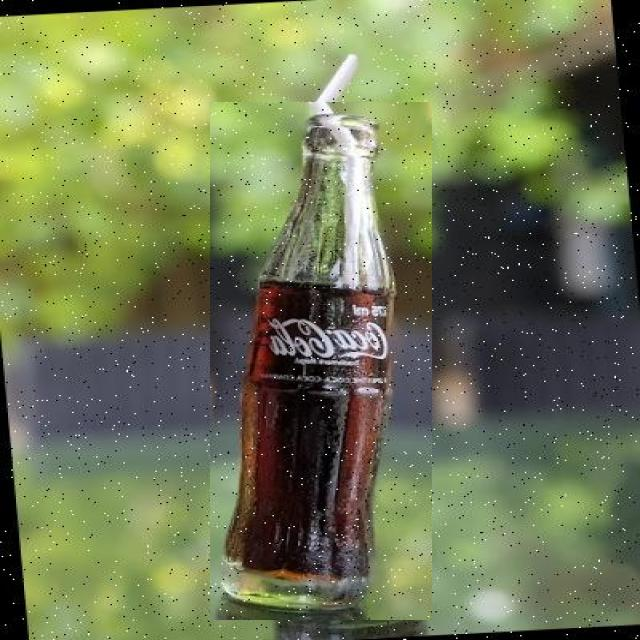coca-cola: (210, 102, 432, 620)
